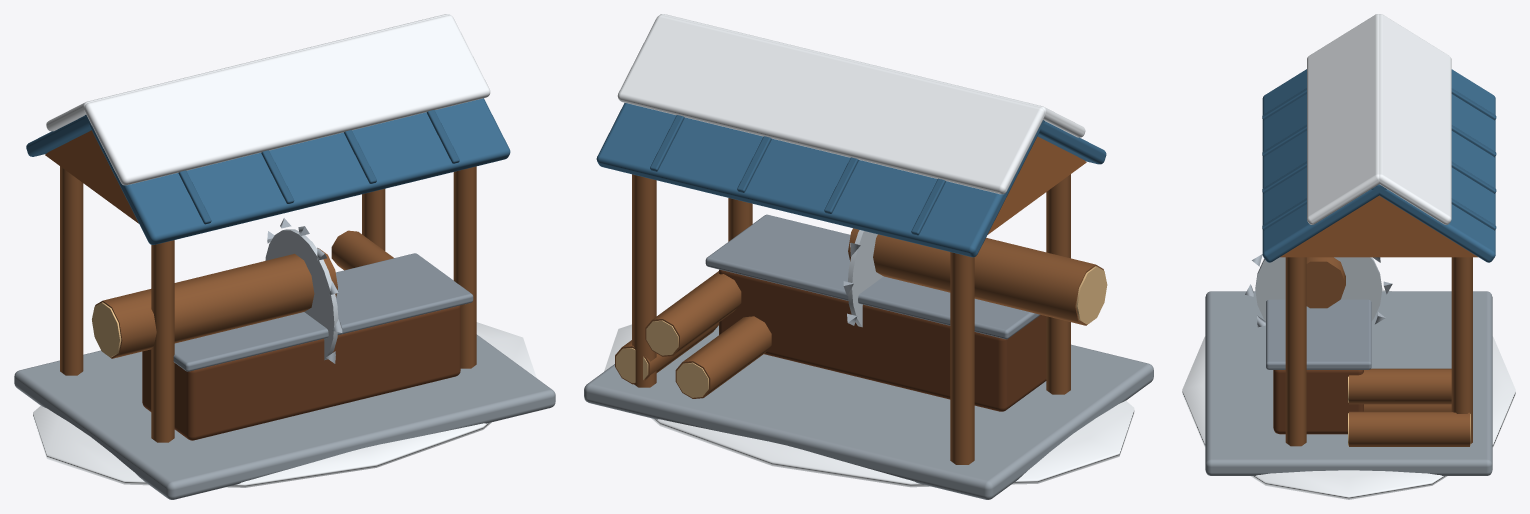
File: sawmill.glb
3 renders of one model, left to right at view 1: azimuth 30°, elevation 25°; view 2: azimuth 150°, elevation 25°; view 3: azimuth 270°, elevation 25°, orthographic. The views are drawn at different scales.
Parts seen in each view (by area): view 1: n2956, n2942, n2955, n2963, n2964, n2980, n2943, n2945, n2947, n2948, n2966, n2961 (+5 smaller); view 2: n2950, n2942, n2949, n2963, n2964, n2980, n2943, n2945, n2946, n2947, n2989, n2983 (+10 smaller); view 3: n2942, n2956, n2950, n2955, n2949, n2943, n2962, n2964, n2986, n2948, n2963, n2989 (+4 smaller).
Part boxes in pixels (x1=…): n2956: x1=84, y1=15, x2=490, y2=185; n2942: x1=14, y1=334, x2=555, y2=499; n2955: x1=84, y1=98, x2=510, y2=244; n2963: x1=142, y1=305, x2=460, y2=440; n2964: x1=173, y1=253, x2=473, y2=371; n2980: x1=95, y1=248, x2=337, y2=358; n2943: x1=33, y1=322, x2=536, y2=487; n2945: x1=60, y1=166, x2=83, y2=375; n2947: x1=151, y1=240, x2=174, y2=442; n2948: x1=453, y1=166, x2=476, y2=368; n2966: x1=265, y1=229, x2=338, y2=360; n2961: x1=45, y1=130, x2=138, y2=223; n2950: x1=617, y1=15, x2=1045, y2=194; n2942: x1=584, y1=325, x2=1153, y2=499; n2949: x1=596, y1=103, x2=1044, y2=257; n2963: x1=719, y1=269, x2=1046, y2=411; n2964: x1=705, y1=214, x2=1040, y2=339; n2980: x1=848, y1=228, x2=1103, y2=325; n2943: x1=604, y1=324, x2=1134, y2=487; n2945: x1=950, y1=252, x2=974, y2=464; n2946: x1=632, y1=174, x2=656, y2=387; n2947: x1=1046, y1=174, x2=1070, y2=394; n2989: x1=645, y1=271, x2=741, y2=356; n2983: x1=675, y1=316, x2=771, y2=398; n2942: x1=1205, y1=291, x2=1492, y2=475; n2956: x1=1307, y1=14, x2=1379, y2=224; n2950: x1=1379, y1=14, x2=1451, y2=224; n2955: x1=1262, y1=69, x2=1386, y2=262; n2949: x1=1371, y1=69, x2=1495, y2=262; n2943: x1=1182, y1=289, x2=1515, y2=499; n2962: x1=1280, y1=195, x2=1478, y2=257; n2964: x1=1266, y1=299, x2=1371, y2=369; n2986: x1=1349, y1=411, x2=1469, y2=446; n2948: x1=1285, y1=257, x2=1306, y2=446; n2963: x1=1273, y1=370, x2=1363, y2=434; n2989: x1=1349, y1=368, x2=1451, y2=404.
Size of the model in its own units: 3.31 by 2.27 by 2.21.
